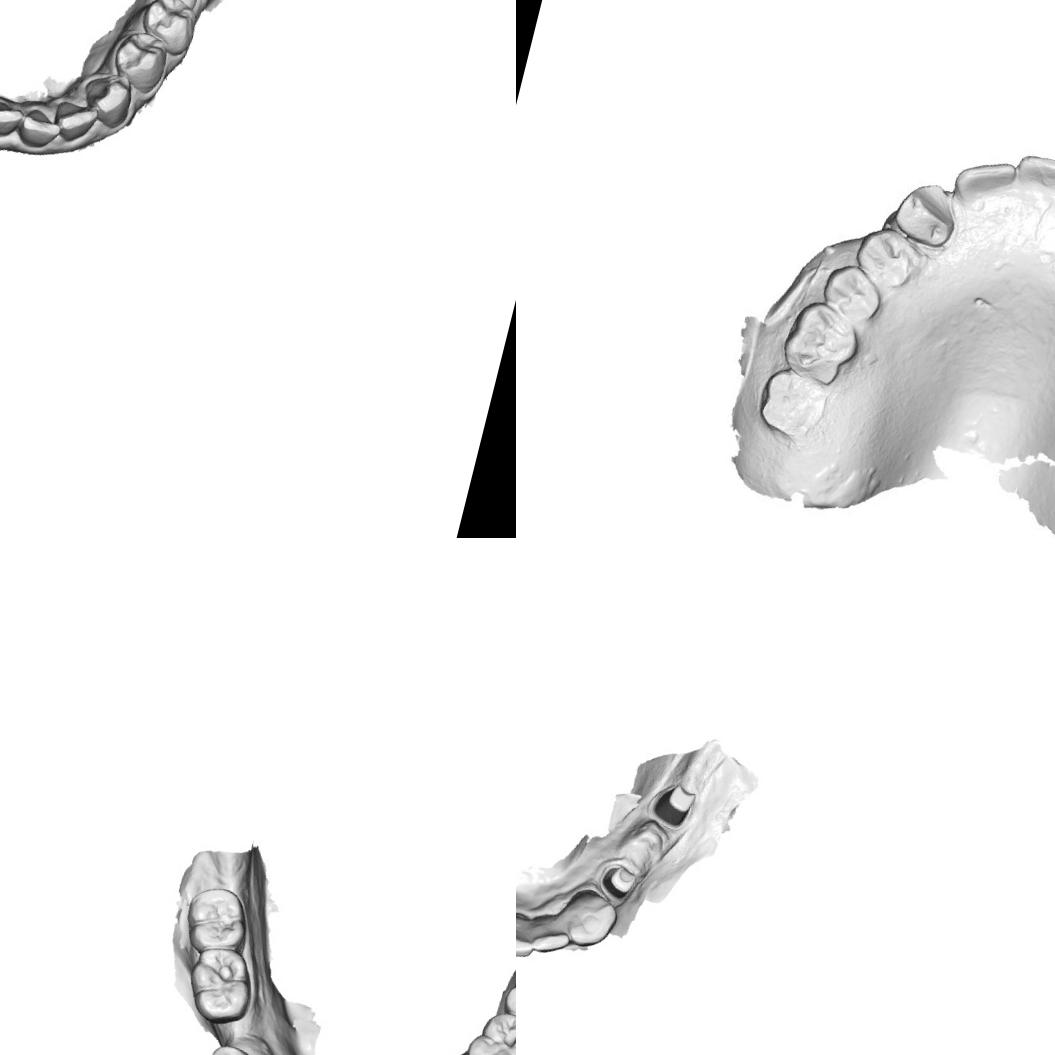abutment: (641, 768, 708, 835), (594, 859, 640, 905)
canine: (889, 176, 973, 252), (76, 64, 142, 133), (558, 885, 622, 953)
implant: (153, 0, 204, 18)
incisor: (954, 154, 1018, 207), (12, 98, 66, 154), (46, 95, 102, 147), (1012, 149, 1055, 203), (526, 911, 574, 959), (0, 92, 30, 144), (516, 910, 538, 961)
molar: (178, 936, 262, 1030), (176, 880, 256, 962), (780, 300, 858, 381), (758, 366, 828, 436), (458, 1004, 516, 1055), (497, 955, 516, 1035)
premolar: (105, 24, 176, 100), (850, 221, 920, 288), (132, 0, 203, 58), (822, 260, 882, 322), (199, 1039, 263, 1055)
